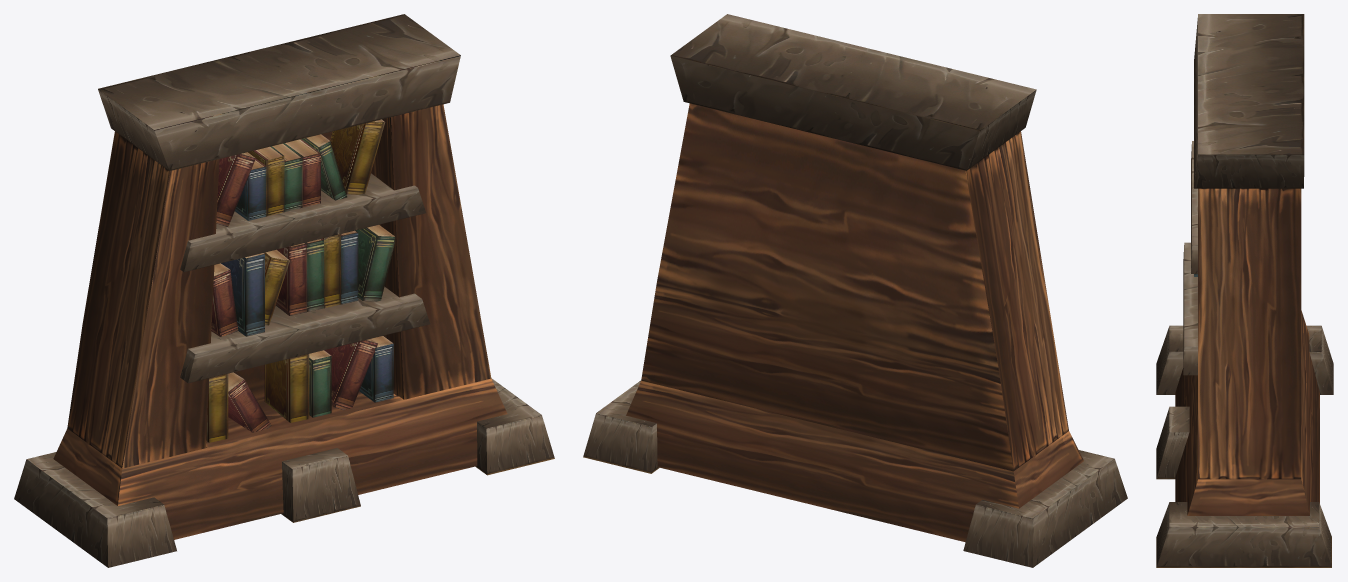
File: dwarvenbookshelflarge.obj
3 views of the same model, side by side, from view 1: azimuth 30°, elevation 25°; view 2: azimuth 150°, elevation 25°; view 3: azimuth 270°, elevation 25° (orthographic). The views are drawn at different scales.
Parts seen in each view (by area): view 1: dwarvenbookshelflarge; view 2: dwarvenbookshelflarge; view 3: dwarvenbookshelflarge.
Part boxes in pixels (x1,y1,x2,y2): dwarvenbookshelflarge: [14, 14, 554, 567]; dwarvenbookshelflarge: [583, 14, 1127, 567]; dwarvenbookshelflarge: [1156, 14, 1333, 567].
Size of the model in its own units: 5.25 by 4.55 by 1.92.
1 material, 1 textured.
